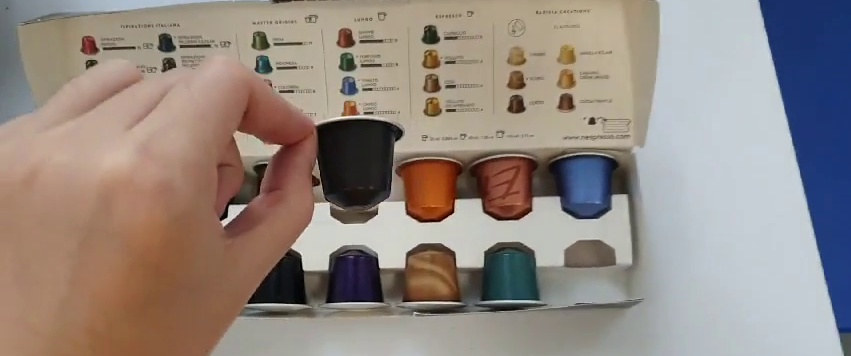capsule_4: (310, 116, 410, 211)
